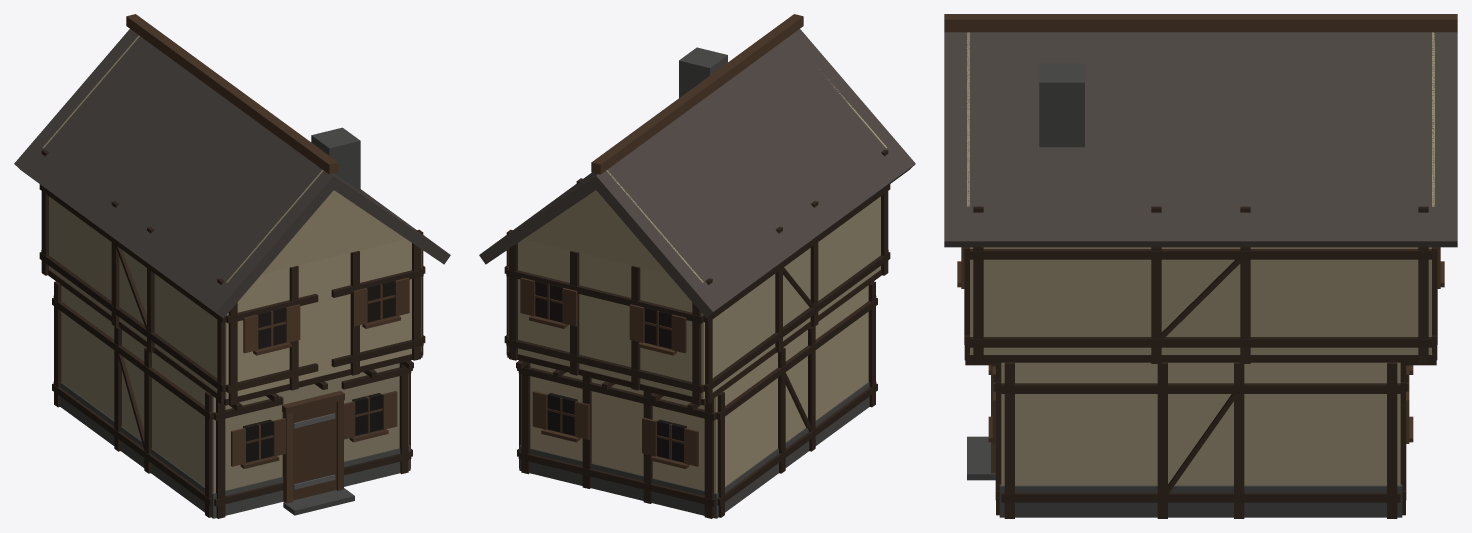
Rendered from walk_hallowed_row.glb.
3 renders of one model, left to right at view 1: azimuth 30°, elevation 25°; view 2: azimuth 150°, elevation 25°; view 3: azimuth 270°, elevation 25°, orthographic. The views are drawn at different scales.
Visible parts, largest first — view 1: walk_hallowed_row, walk_hallowed_row_roof; view 2: walk_hallowed_row, walk_hallowed_row_roof; view 3: walk_hallowed_row, walk_hallowed_row_roof.
Part boxes in pixels (<box>): walk_hallowed_row: <box>39,149,425,518</box>; walk_hallowed_row_roof: <box>14,14,450,318</box>; walk_hallowed_row: <box>504,149,890,518</box>; walk_hallowed_row_roof: <box>479,14,915,318</box>; walk_hallowed_row: <box>957,206,1444,518</box>; walk_hallowed_row_roof: <box>944,14,1457,247</box>.
Size of what is drawn, in the model's own units: 6 by 8.6 by 9.
Materials: 2 (2 with a texture image).
